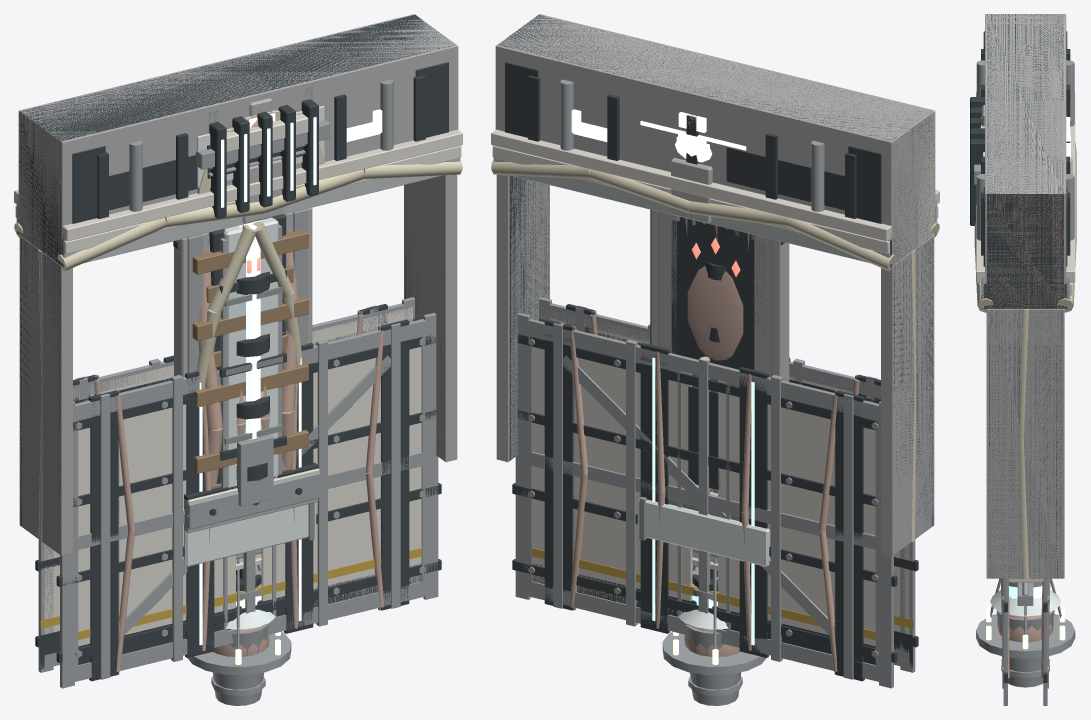
The model's file is kit.glb.
The picture shows the model from 3 angles, left to right: view 1: azimuth 30°, elevation 25°; view 2: azimuth 150°, elevation 25°; view 3: azimuth 270°, elevation 25°; orthographic projection. The views are drawn at different scales.
Visible parts, largest first — view 1: catacombs_doorhead__env.basalt, spire_doorleaf__env.limestone, sanctum_doorhead__env.dark, pit_doorleaf__env.alloy, sanctum_doorleaf__env.dark, foundry_doorleaf__env.alloy, foundry_doorhead__env.alloy, catacombs_doorleaf__env.dark, spire_doorhead__env.limestone, pit_upper3__env.timber, gullet_doorhead__env.bone, gullet_doorleaf__env.organic (+31 smaller); view 2: catacombs_doorhead__env.basalt, spire_doorleaf__env.limestone, pit_doorleaf__env.alloy, sanctum_doorleaf__env.dark, foundry_doorleaf__env.alloy, sanctum_doorhead__env.dark, spire_doorhead__env.limestone, foundry_doorhead__env.alloy, catacombs_doorleaf__env.dark, gullet_doorleaf__env.organic, gullet_doorhead__env.bone, catacombs_upper__env.basalt (+20 smaller); view 3: catacombs_doorhead__env.basalt, foundry_doorhead__env.alloy, sanctum_doorhead__env.dark, Door housing, pit_doorhead__env.alloy, spire_doorhead__env.limestone, Door housing.001, gullet_doorhead__env.bone, catacombs_hang__env.alloy, foundry_hang__env.alloy, sanctum_crown__env.dark, pit_doorleaf__env.alloy (+12 smaller).
Part boxes in pixels (box(x1,y1,x2,y2)): catacombs_doorhead__env.basalt: box(18, 14, 458, 555); spire_doorleaf__env.limestone: box(44, 307, 421, 646); sanctum_doorhead__env.dark: box(20, 14, 455, 553); pit_doorleaf__env.alloy: box(38, 297, 438, 688); sanctum_doorleaf__env.dark: box(73, 304, 409, 681); foundry_doorleaf__env.alloy: box(76, 305, 400, 679); foundry_doorhead__env.alloy: box(21, 79, 441, 553); catacombs_doorleaf__env.dark: box(35, 318, 441, 662); spire_doorhead__env.limestone: box(14, 17, 462, 255); pit_upper3__env.timber: box(192, 229, 308, 489); gullet_doorhead__env.bone: box(14, 160, 462, 542); gullet_doorleaf__env.organic: box(94, 313, 383, 671); catacombs_doorhead__env.basalt: box(495, 14, 935, 555); spire_doorleaf__env.limestone: box(532, 308, 909, 655); pit_doorleaf__env.alloy: box(515, 297, 915, 688); sanctum_doorleaf__env.dark: box(544, 304, 880, 681); foundry_doorleaf__env.alloy: box(553, 305, 877, 679); sanctum_doorhead__env.dark: box(497, 15, 933, 538); spire_doorhead__env.limestone: box(491, 18, 939, 254); foundry_doorhead__env.alloy: box(510, 79, 932, 541); catacombs_doorleaf__env.dark: box(512, 318, 918, 662); gullet_doorleaf__env.organic: box(570, 313, 859, 671); gullet_doorhead__env.bone: box(491, 160, 939, 542); catacombs_upper__env.basalt: box(651, 210, 789, 381); catacombs_doorhead__env.basalt: box(985, 14, 1072, 578); foundry_doorhead__env.alloy: box(976, 60, 1074, 578); sanctum_doorhead__env.dark: box(981, 14, 1070, 578); Door housing: box(987, 169, 1063, 308); pit_doorhead__env.alloy: box(988, 14, 1062, 193); spire_doorhead__env.limestone: box(976, 14, 1075, 295); Door housing.001: box(988, 90, 1061, 308); gullet_doorhead__env.bone: box(974, 142, 1076, 579); catacombs_hang__env.alloy: box(976, 578, 1075, 658); foundry_hang__env.alloy: box(996, 610, 1054, 687); sanctum_crown__env.dark: box(970, 97, 984, 225); pit_doorleaf__env.alloy: box(1003, 578, 1047, 705).
Bounding box in the file's own units: 6.05 × 8.95 × 1.53.
